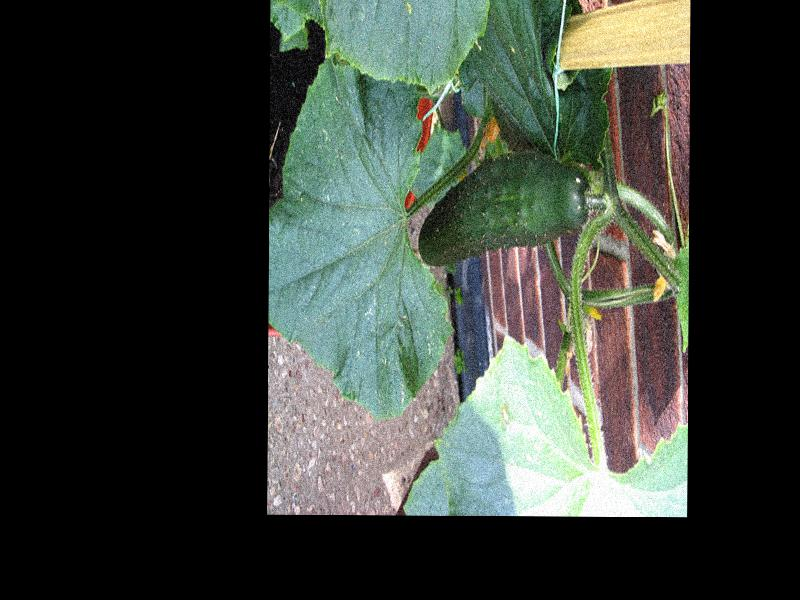Cucumber: (417, 151, 589, 270)
